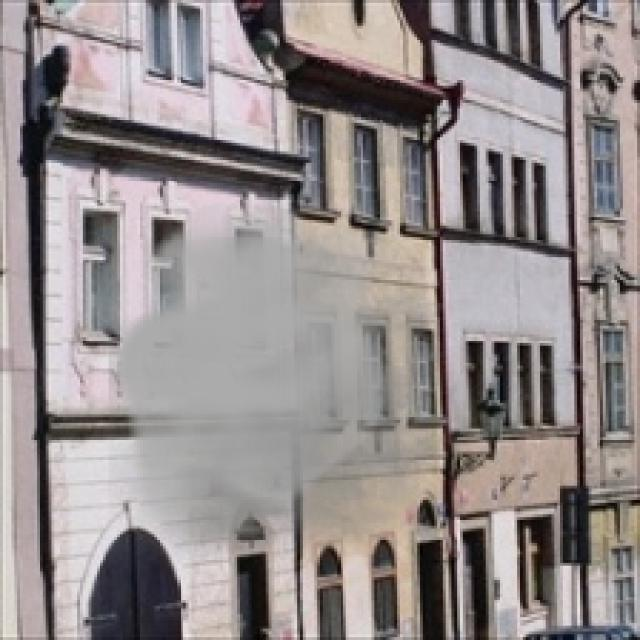smoke: (108, 197, 486, 572)
